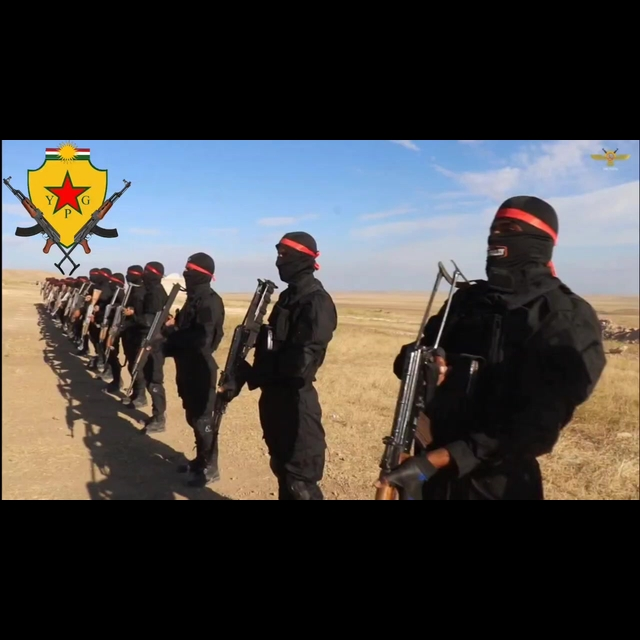AK47: (368, 348, 445, 501), (212, 322, 255, 444), (125, 310, 166, 396)
